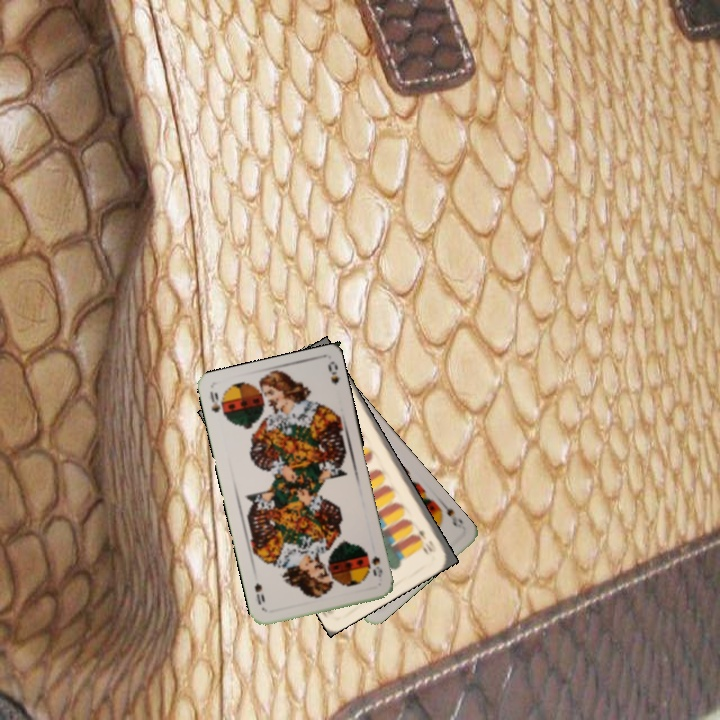E10: (415, 526, 438, 555)
S9: (433, 497, 465, 531)
SO: (363, 548, 385, 580), (206, 387, 227, 419)
